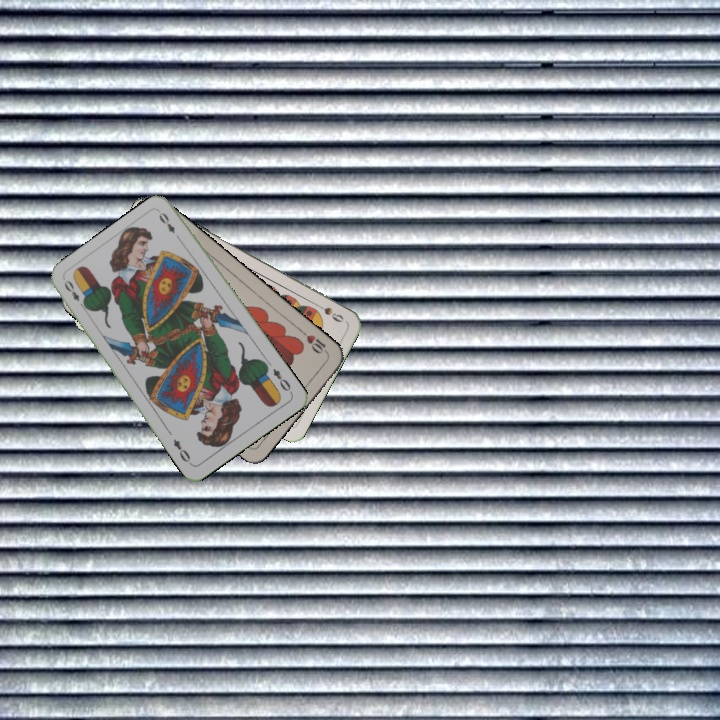EO: (60, 276, 89, 312), (269, 364, 295, 396)
H10: (297, 326, 331, 357)
S9: (310, 299, 346, 325)
